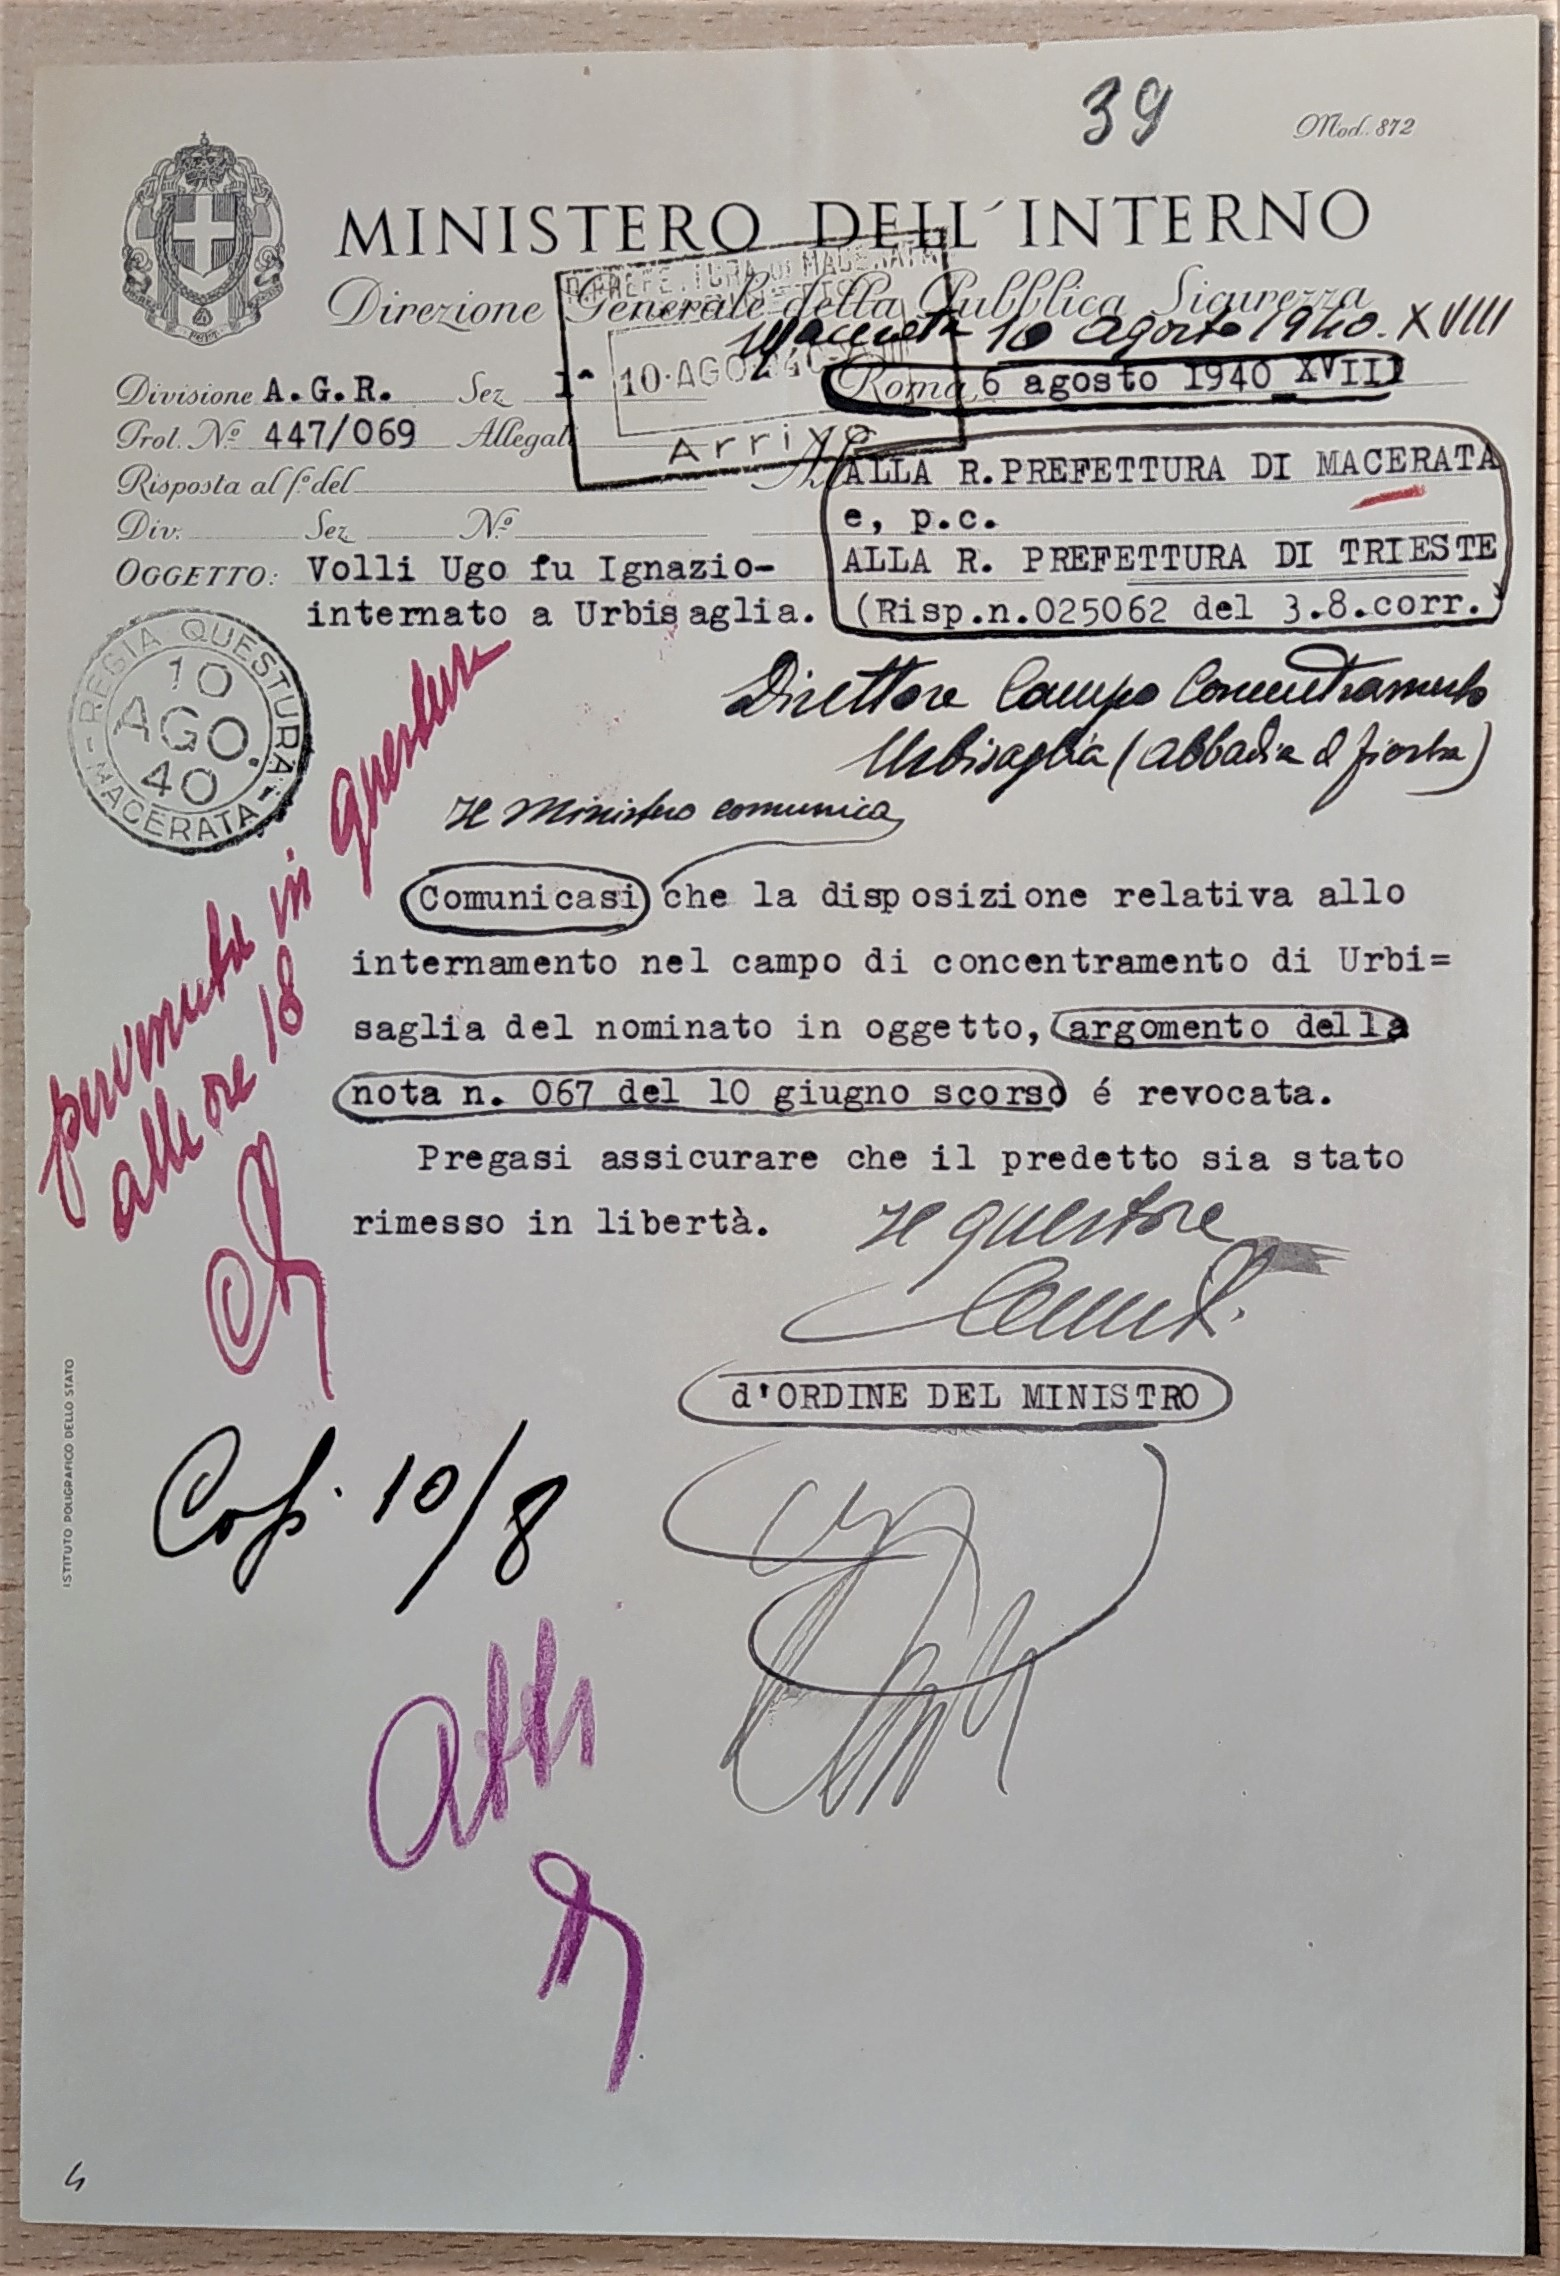stamp: (533, 240, 982, 491), (47, 609, 316, 861)
